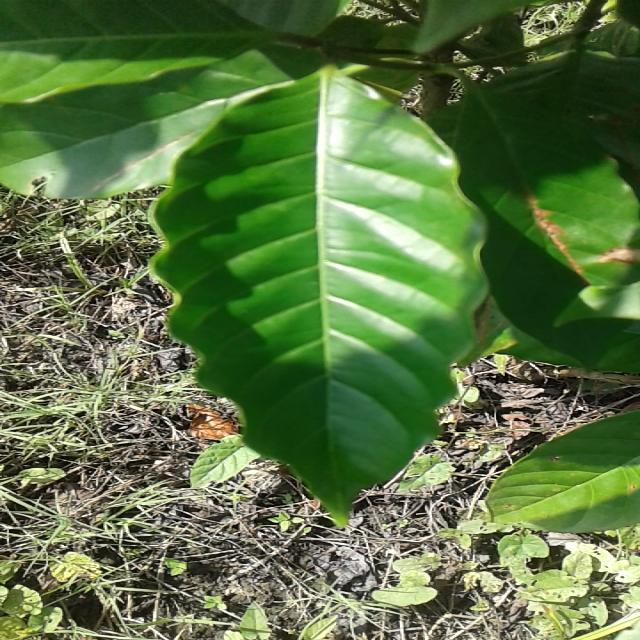Sanas: (40, 68, 507, 528)
